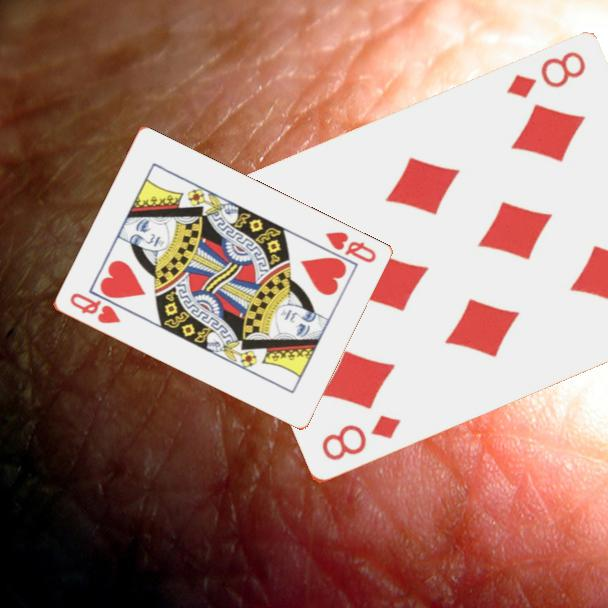d08: (502, 48, 589, 102), (318, 412, 404, 464)
h12: (321, 228, 379, 266), (66, 289, 123, 327)
